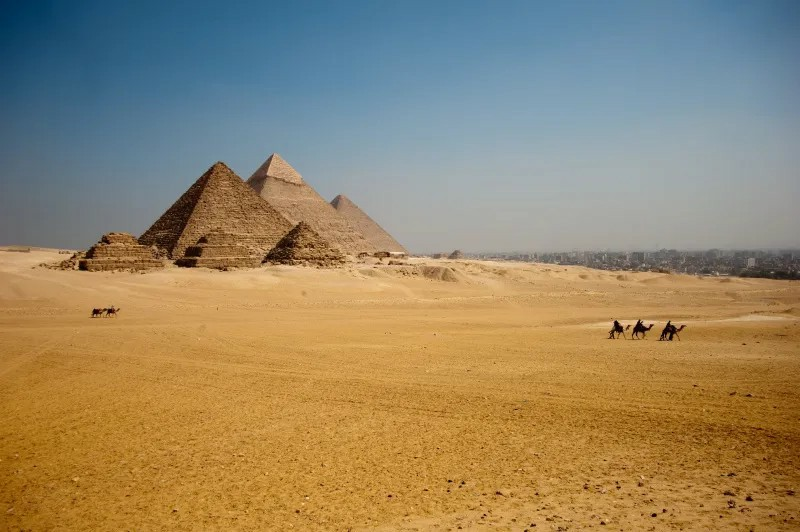Pyramid: (139, 161, 293, 265), (244, 154, 378, 258), (331, 193, 412, 260), (74, 233, 167, 273), (266, 222, 347, 266), (175, 228, 262, 266)
